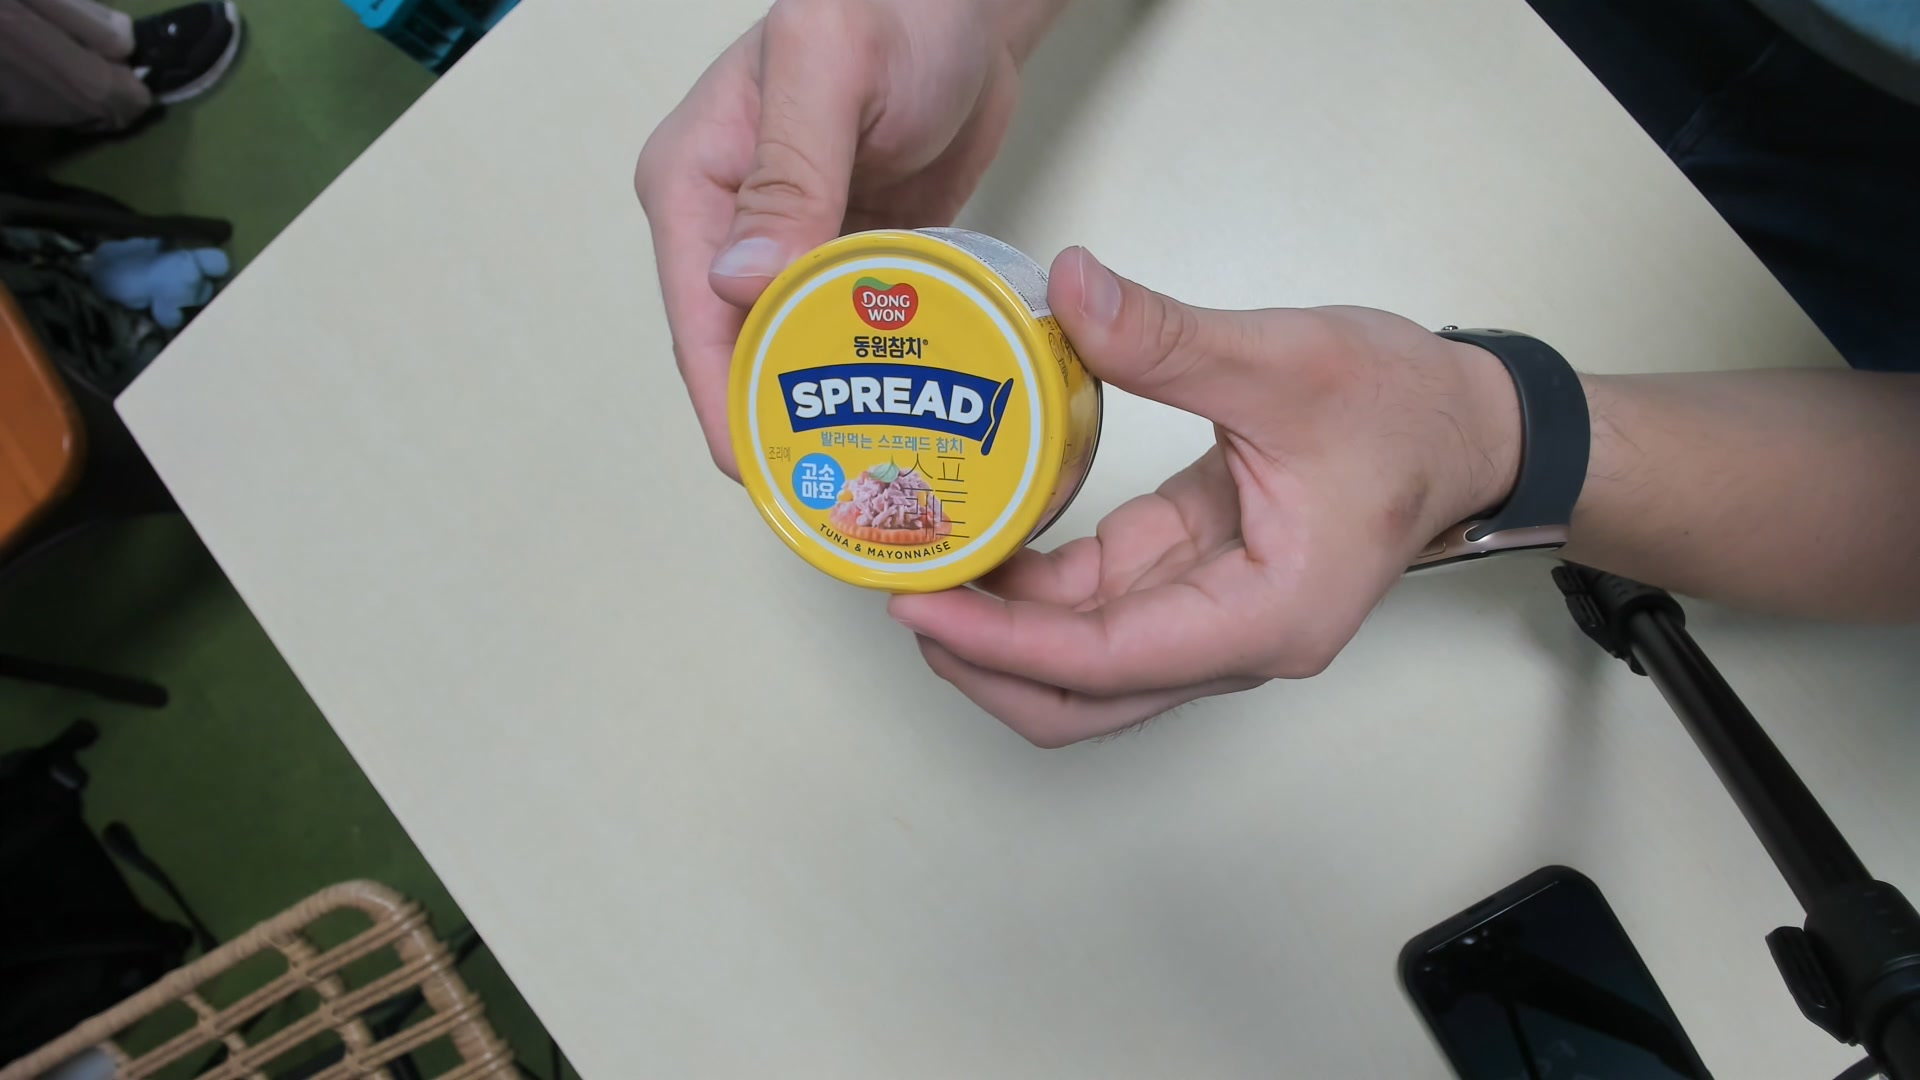OtherSauceDressing_0-99g_NonHalal_NonHealthy: (712, 214, 1112, 600)
